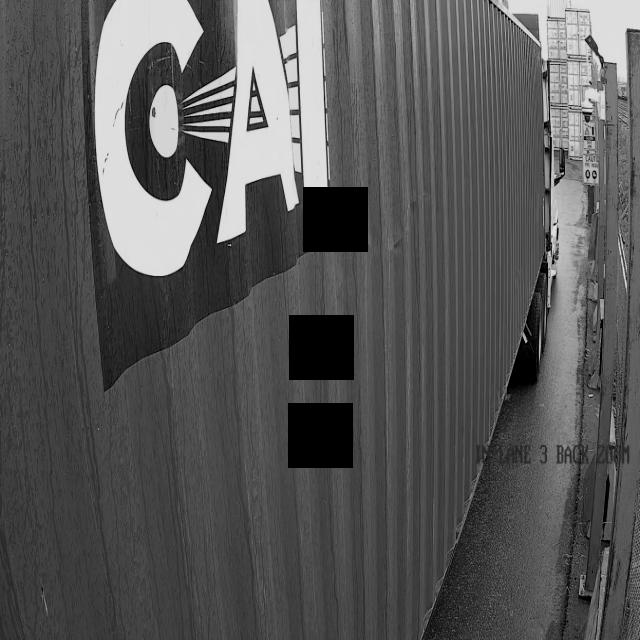container_company_logo: (70, 0, 409, 312)
truck_with_container: (0, 0, 556, 640)
